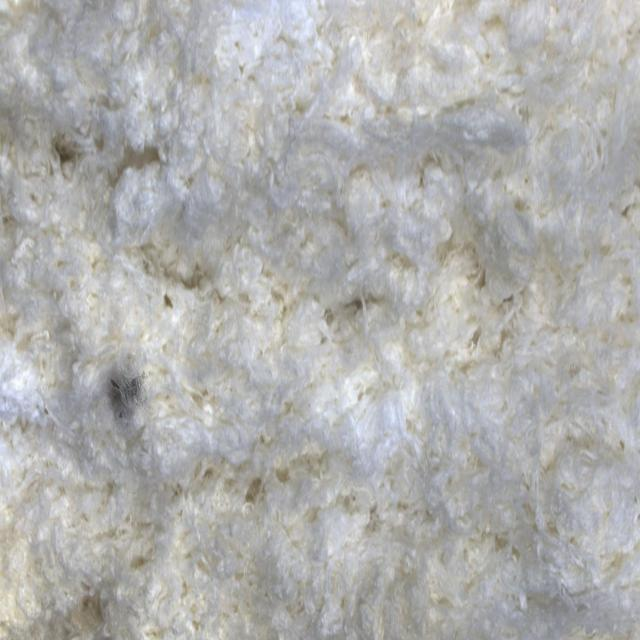dust: (60, 329, 172, 443)
